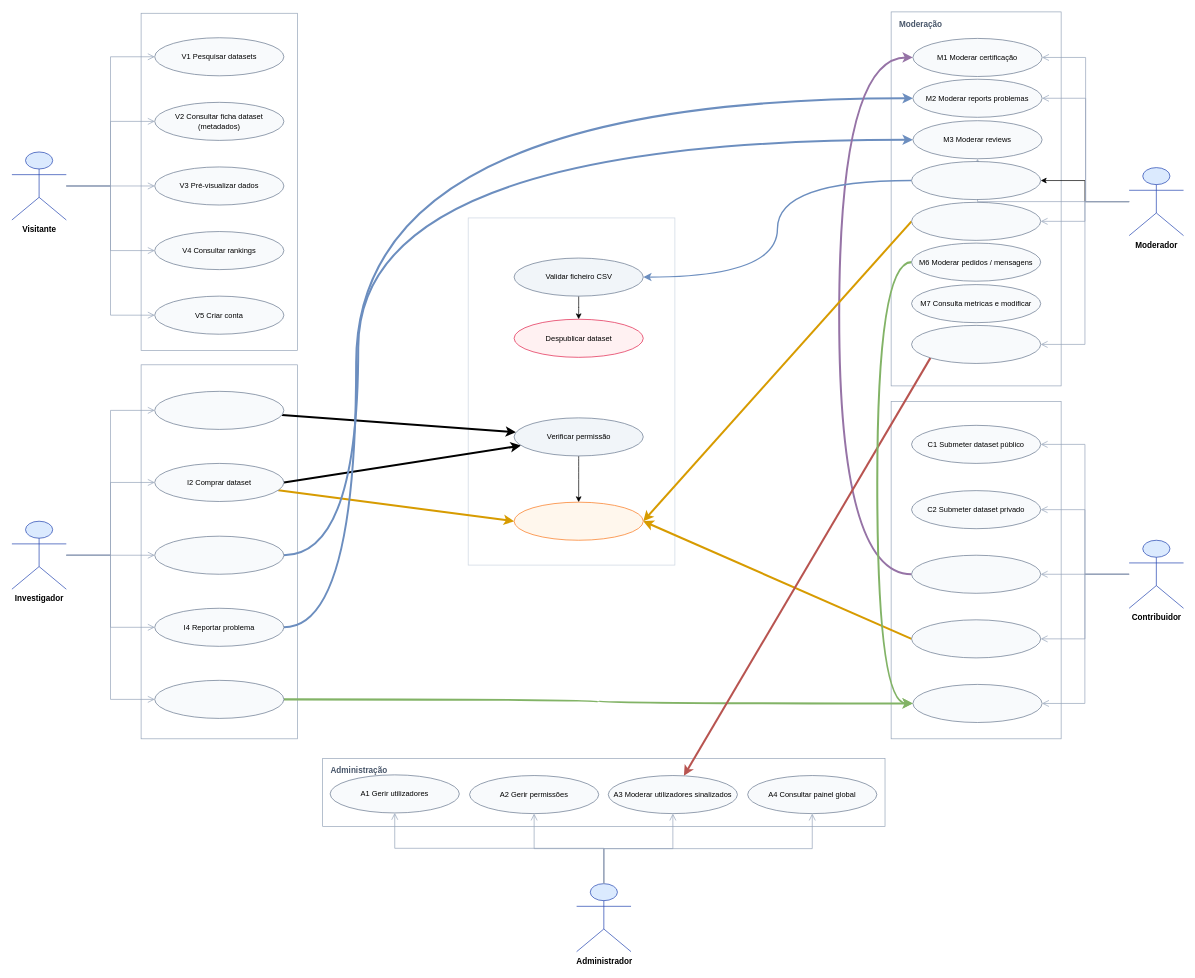
The diagram is 1195 pixels wide and 978 high, and some of its shapes have lost their labels. The box of each missing label's shape, as (x1, y1, x2, y2) in pixels:
C3 Solicitar certificação: (911, 555, 1041, 593)
C4 Venda dataset privado: (911, 619, 1041, 658)
C5 Resposta a pedido / mensagem: (912, 684, 1042, 722)
Catalogo Público: (140, 13, 298, 351)
Comportamentos partilhados (internos): (468, 217, 675, 565)
Consumo de Dados: (140, 364, 298, 739)
I1 Download dataset: (154, 391, 284, 429)
I3 Review/Avaliar qualidade de datasets: (154, 536, 284, 574)
I5 Pedido de dataset / mensagem: (154, 680, 284, 718)
M4 Moderar Datasets publicados: (911, 161, 1041, 200)
M5 Moderar transações: (911, 202, 1041, 240)
M8 Sinalizar utilizador: (911, 325, 1041, 363)
P2P Anexar comprovativo: (513, 502, 643, 540)
Publicação e Gestão: (890, 401, 1061, 739)
